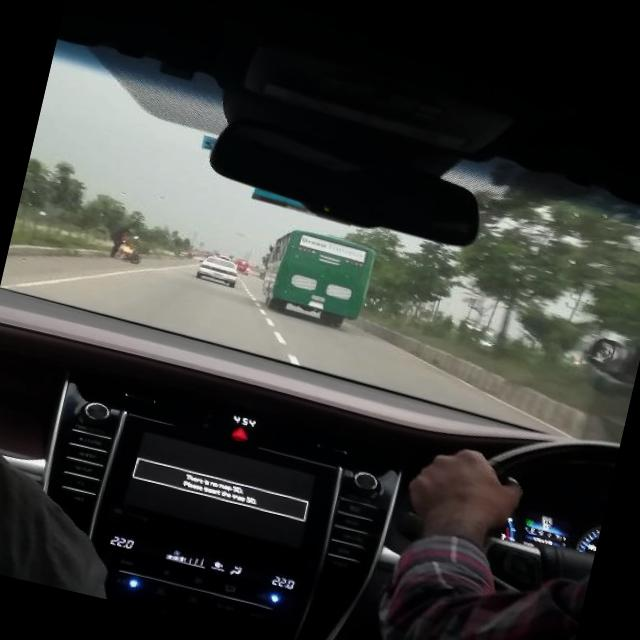bus: (256, 223, 375, 329)
car: (192, 252, 240, 287)
motorcycle: (118, 240, 142, 264)
